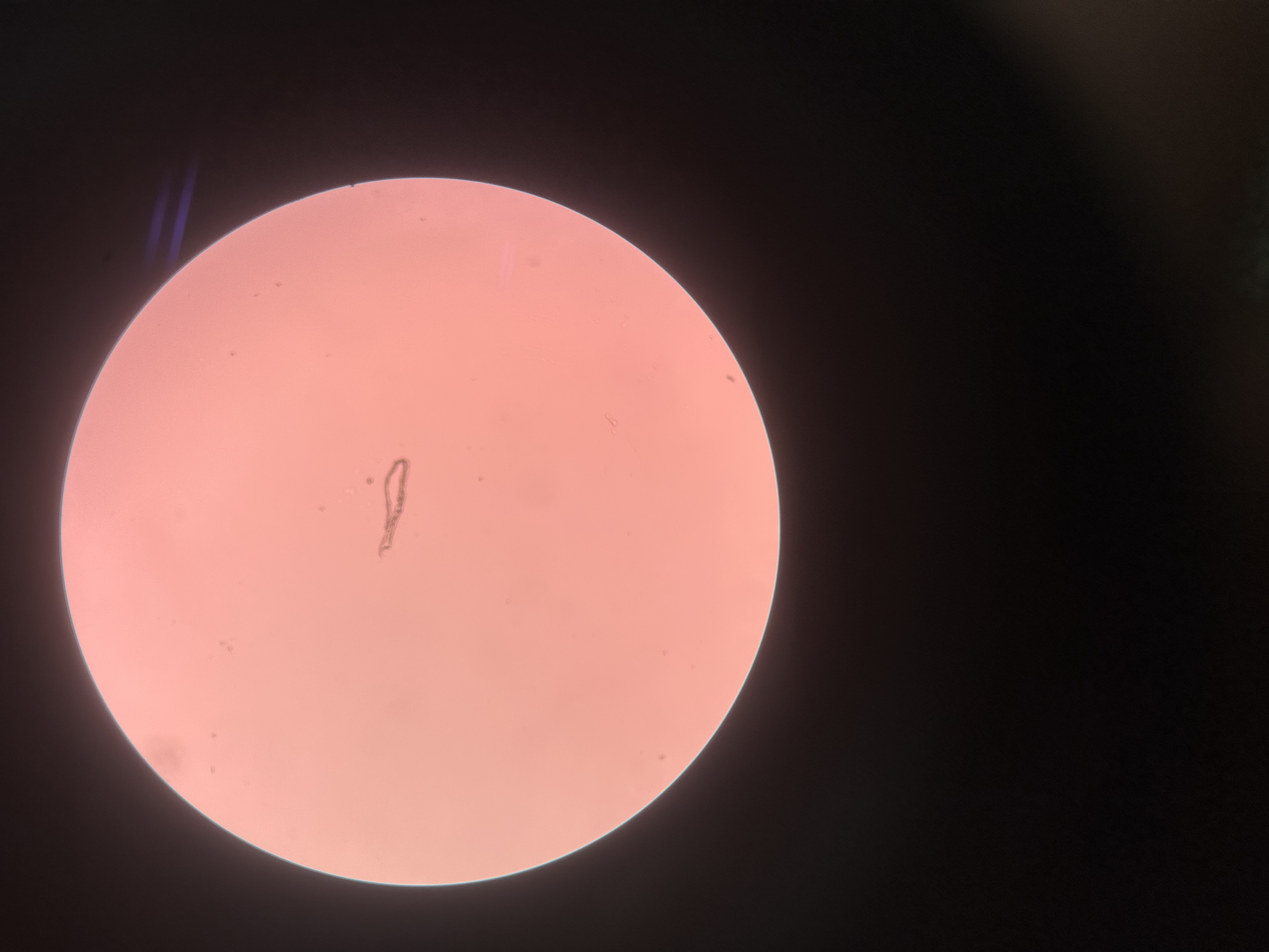not_microplastic: (377, 454, 407, 561)
